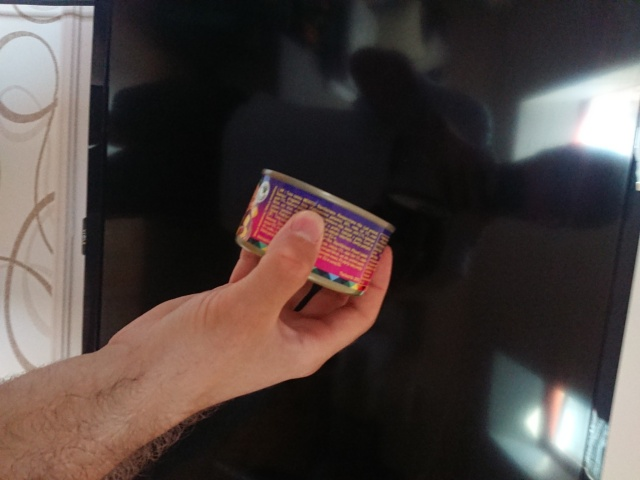Giana Tuna Salad Mexico 185g: (232, 165, 397, 300)
